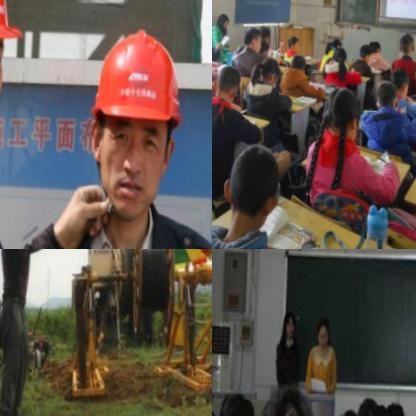head: (220, 138, 282, 225), (320, 84, 360, 145), (246, 384, 321, 416), (212, 64, 240, 107), (374, 78, 399, 115), (252, 54, 280, 87), (223, 390, 255, 416), (387, 67, 409, 99), (313, 316, 333, 348), (353, 394, 382, 416), (242, 25, 262, 56), (394, 30, 415, 57), (279, 311, 297, 339), (255, 21, 271, 47), (381, 399, 405, 416), (355, 42, 372, 64), (331, 404, 361, 416), (288, 53, 306, 72), (329, 45, 347, 64), (283, 34, 300, 54), (213, 11, 228, 33), (366, 37, 380, 56), (255, 39, 268, 58), (329, 36, 341, 54)
helmet: (68, 3, 200, 238)
